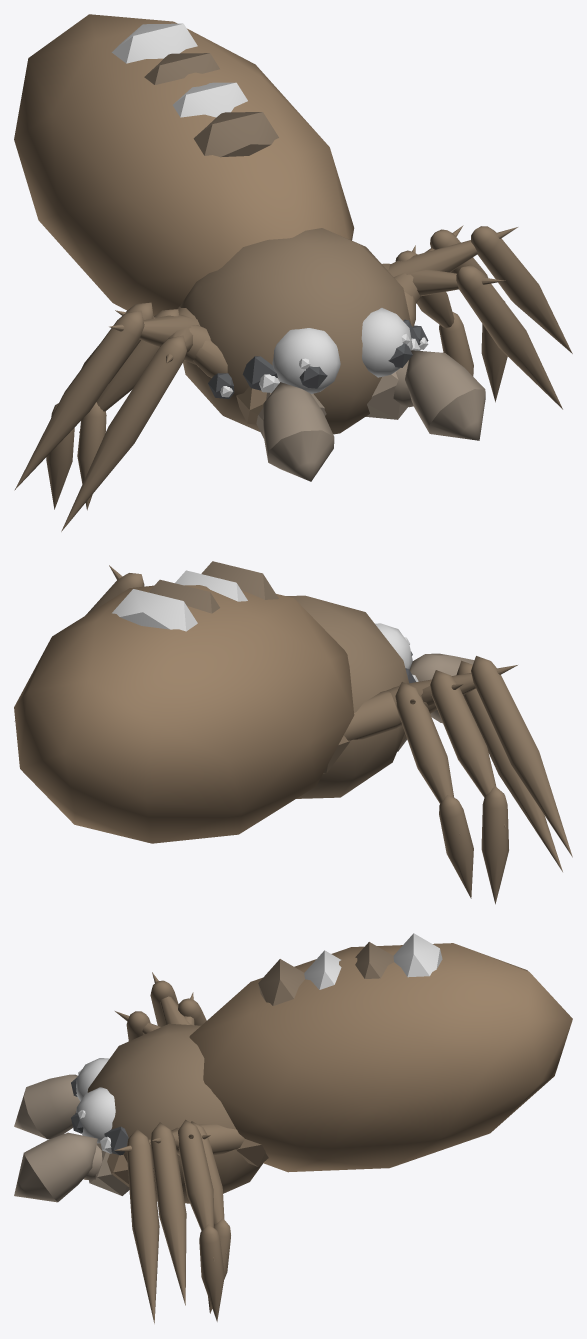
Rendered from heteropoda-amphora.glb.
3 views of the same model, one above another, from view 1: azimuth 30°, elevation 25°; view 2: azimuth 150°, elevation 25°; view 3: azimuth 270°, elevation 25° (orthographic). The views are drawn at different scales.
Visible parts, largest first — view 1: abdomen, cephalothorax, leg2-r0, leg3-r0, palp-l1, leg2-l0, palp-r1, leg3-l0, leg0-r0, eye0-r, eye0-l, leg0-l0 (+3 smaller); view 2: abdomen, cephalothorax, leg1-r0, leg2-r0, leg0-r0, leg3-r0, palp-r1, leg2-l0, eye0-r; view 3: abdomen, cephalothorax, leg3-l0, leg1-l0, palp-l1, leg2-l0, palp-r1, eye0-l, leg0-l0, leg2-r0, eye0-r, leg3-r0 (+2 smaller).
Part boxes in pixels (x1,y1,x2,y2): abdomen: (14, 14, 354, 315); cephalothorax: (180, 228, 411, 438); leg2-r0: (14, 310, 199, 490); leg3-r0: (61, 306, 195, 531); palp-l1: (405, 350, 485, 440); leg2-l0: (388, 226, 572, 353); palp-r1: (263, 382, 334, 481); leg3-l0: (382, 263, 562, 409); leg0-r0: (77, 309, 227, 510); eye0-r: (272, 328, 340, 393); eye0-l: (361, 308, 412, 377); leg0-l0: (395, 245, 473, 376); abdomen: (14, 561, 354, 843); cephalothorax: (286, 595, 408, 798); leg1-r0: (392, 670, 508, 904); leg2-r0: (387, 656, 572, 857); leg0-r0: (395, 682, 473, 898); leg3-r0: (344, 660, 562, 871); palp-r1: (409, 653, 474, 723); leg2-l0: (14, 565, 144, 721); eye0-r: (375, 623, 412, 669); abdomen: (189, 933, 572, 1172); cephalothorax: (87, 1023, 268, 1203); leg3-l0: (114, 1124, 244, 1323); leg1-l0: (171, 1119, 224, 1321); palp-l1: (14, 1132, 97, 1202); leg2-l0: (150, 1122, 186, 1305); palp-r1: (14, 1074, 79, 1139); eye0-l: (71, 1087, 115, 1143); leg0-l0: (191, 1121, 230, 1313); leg2-r0: (150, 972, 192, 1026); eye0-r: (71, 1058, 109, 1101); leg3-r0: (115, 1011, 160, 1041).
Size of the model in its own units: 0.4015 by 0.2375 by 0.4124.
